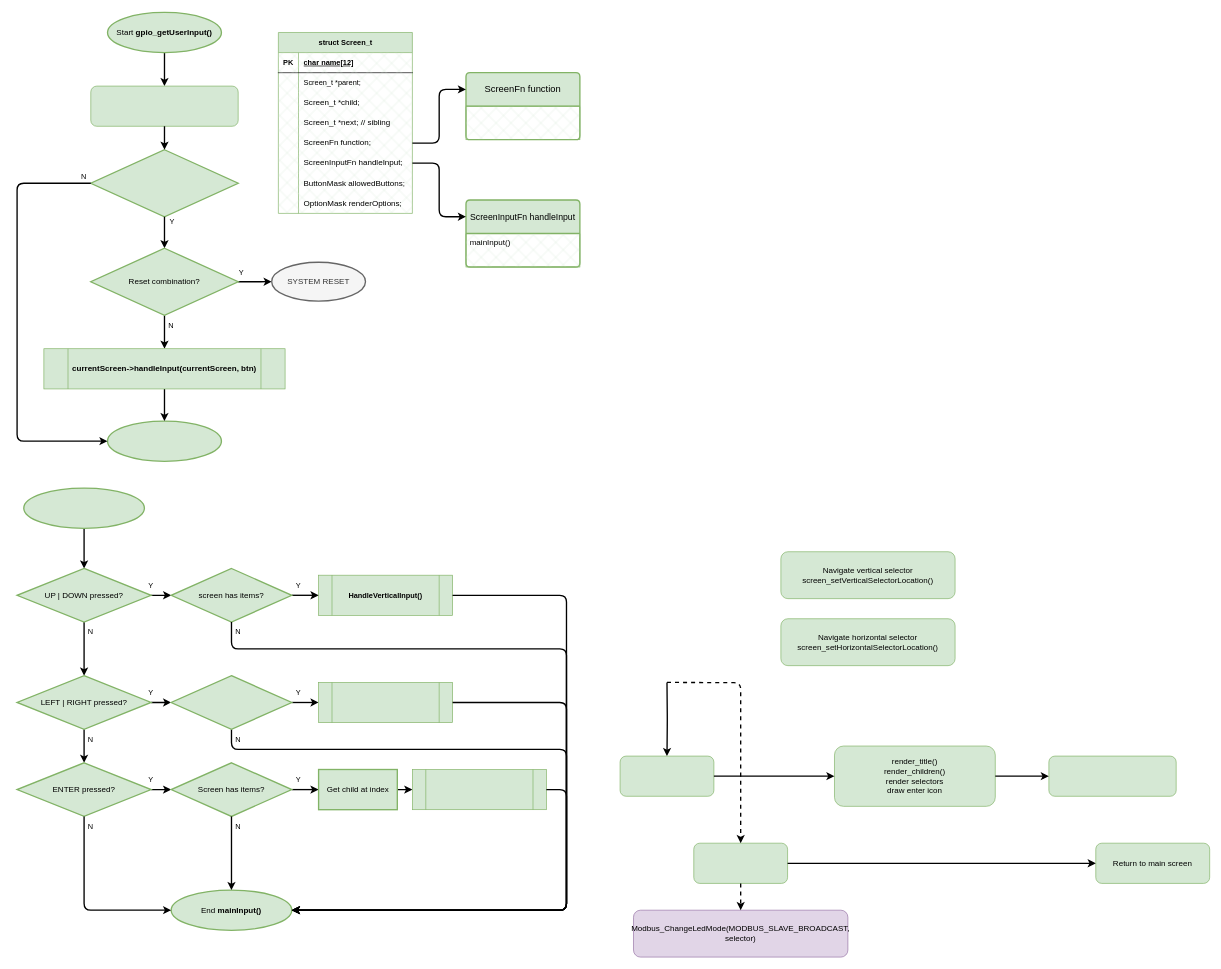
Some shapes in this 1221 by 969 pixel diagram are drawn without their labels. Here are the shapes that lost their labels. From the top down, the box of each, then its label:
(90, 85, 238, 126): Read buttons UP / DOWN / LEFT / RIGHT / ENTER
(465, 106, 580, 140): mainRender() setLights()
(90, 149, 239, 217): Button pressed?
(107, 420, 222, 462): End gpio_getUserInput()
(23, 487, 145, 529): Start mainInput ()
(170, 675, 292, 730): Horizontal allowed?
(318, 682, 453, 723): HandleHorizontalInput()
(412, 769, 546, 810): child->function()
(619, 755, 714, 796): mainRender()
(1048, 755, 1176, 796): SSD1803A driver I2C display writes
(693, 843, 788, 883): setLights()
